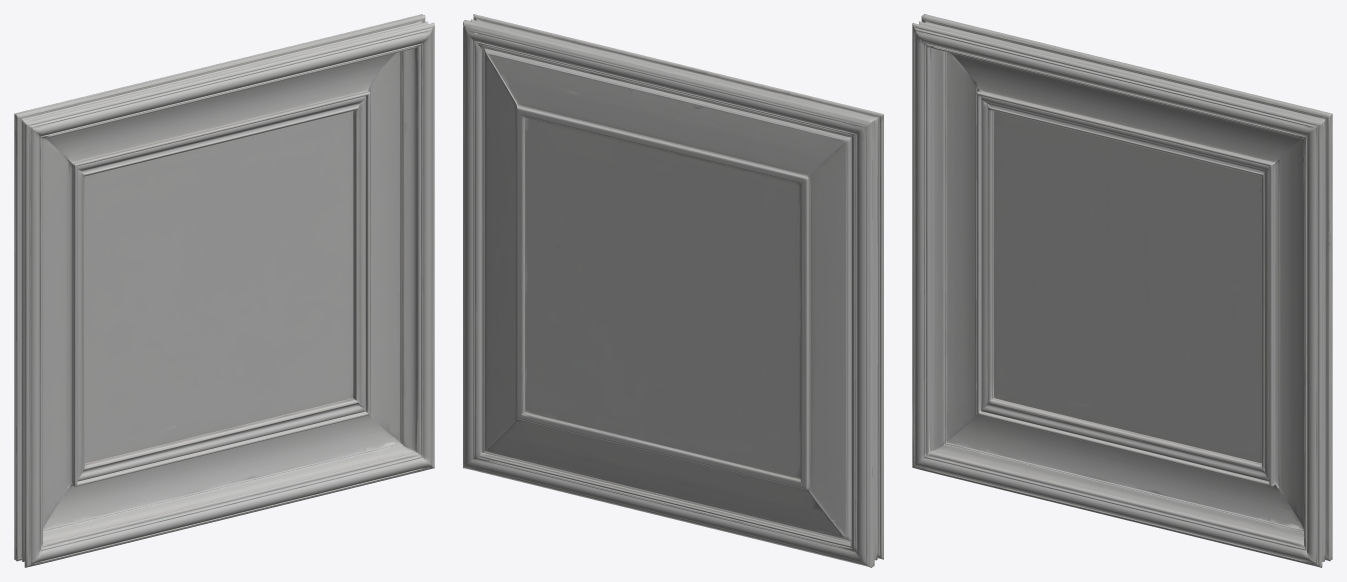
The model's file is 墙面装饰画.glb.
3 views of the same model, side by side, from view 1: azimuth 30°, elevation 25°; view 2: azimuth 150°, elevation 25°; view 3: azimuth 330°, elevation 25° (orthographic).
Parts seen in each view (by area): view 1: node_0; view 2: node_0; view 3: node_0.
Part boxes in pixels (x1=…): node_0: x1=14, y1=14, x2=434, y2=567; node_0: x1=463, y1=14, x2=883, y2=567; node_0: x1=912, y1=14, x2=1332, y2=567.
Bounding box in the file's own units: 0.8314 × 0.8661 × 0.0713.
1 material, 1 textured.
